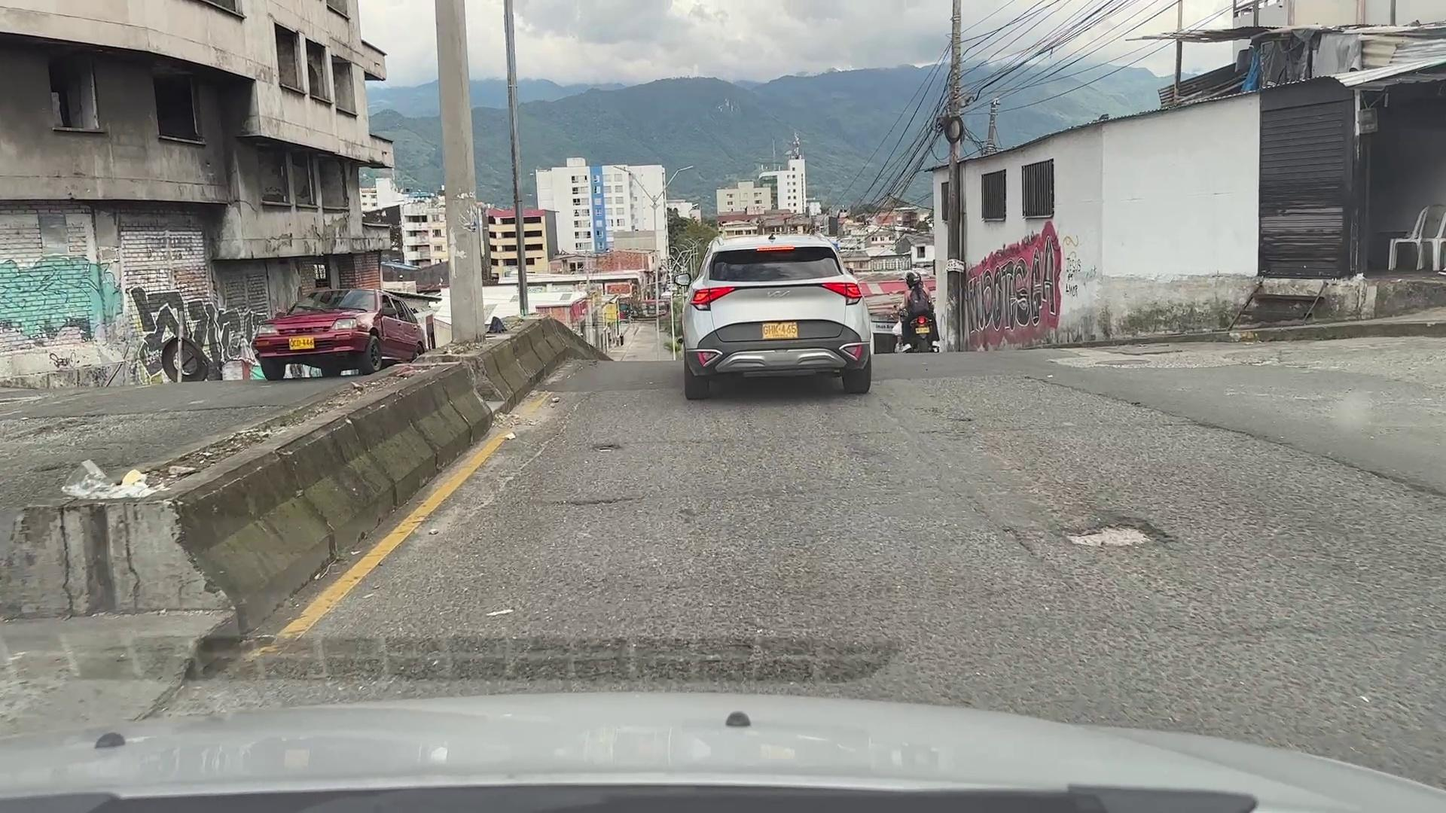bache: (1065, 516, 1172, 547), (594, 445, 619, 452)
grieta: (1186, 417, 1445, 496), (553, 496, 644, 505)
